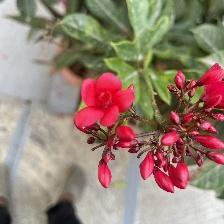jatropha: (75, 73, 137, 130)
